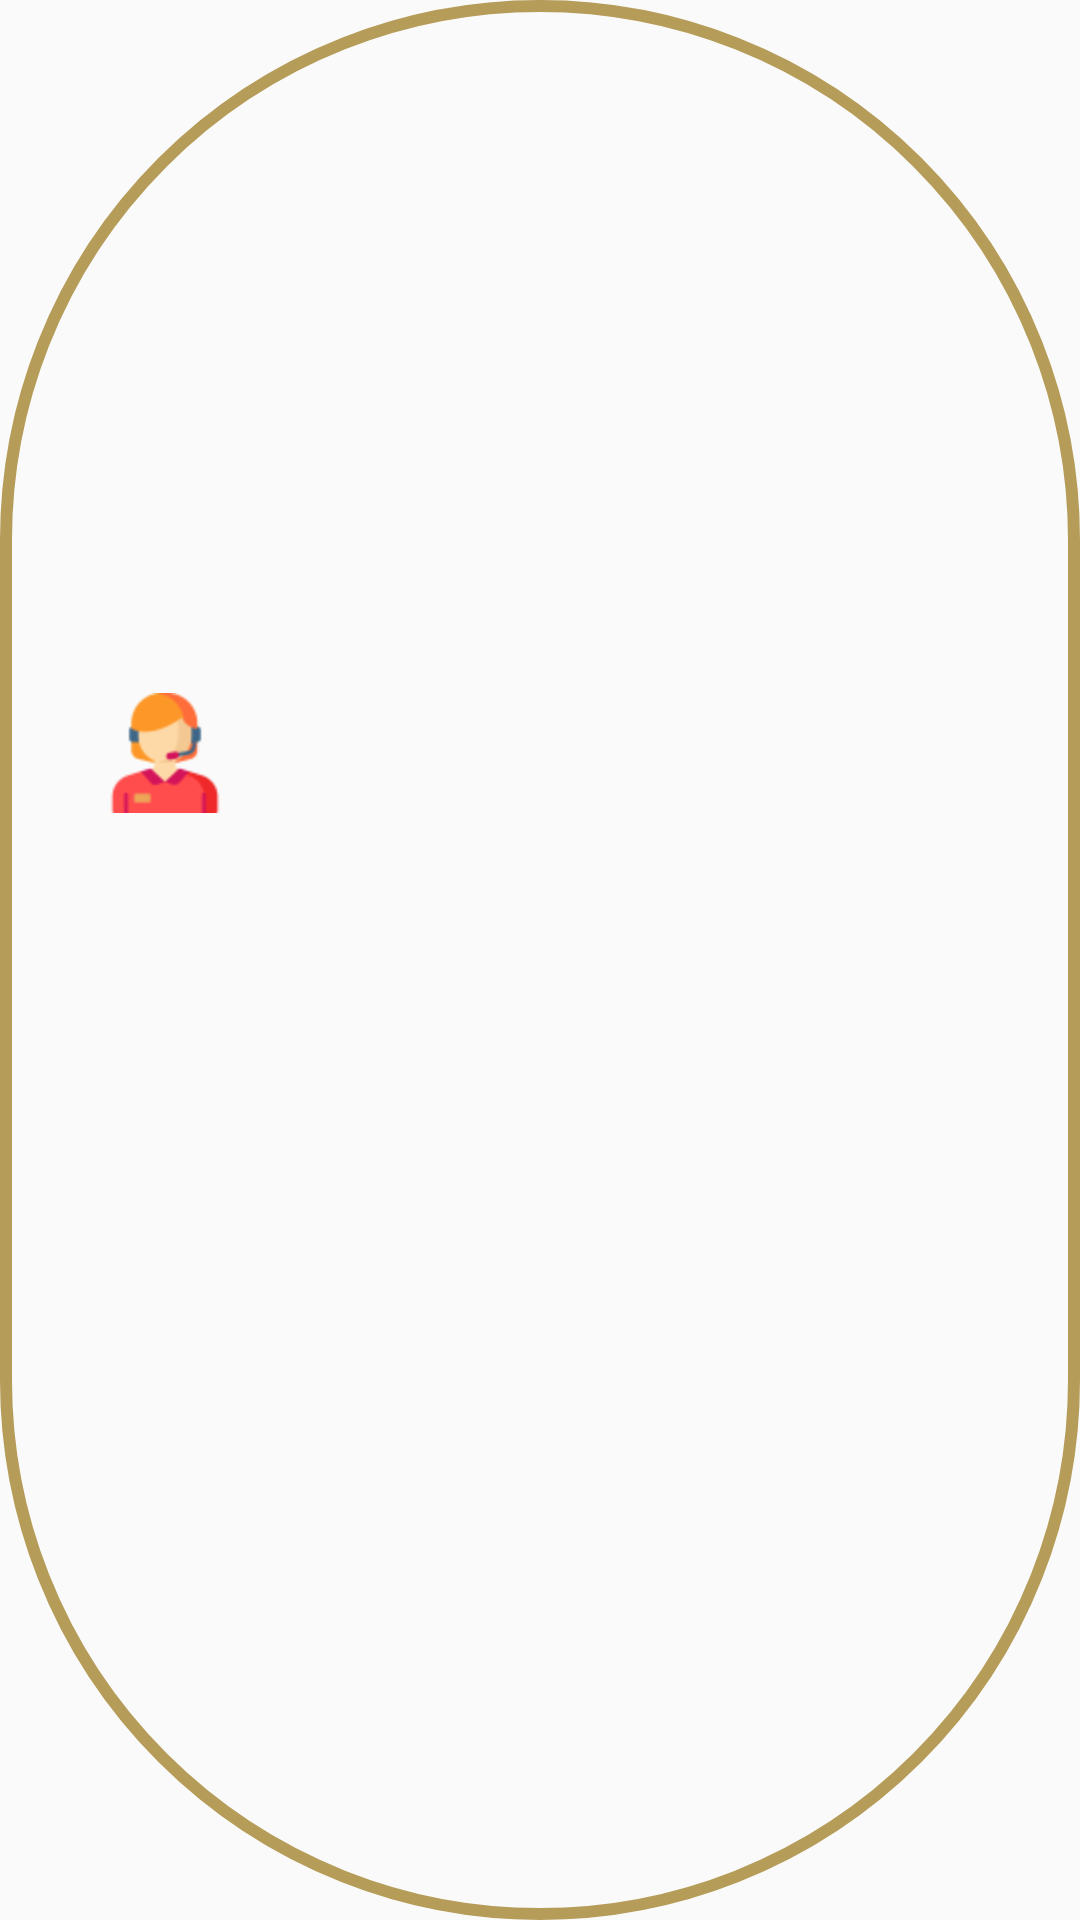

Named icons in this screenshot (1080×1920) and their bounding boxes, box=[x1, y1, x2, y2]:
pelanggan: box=[111, 693, 219, 813]
